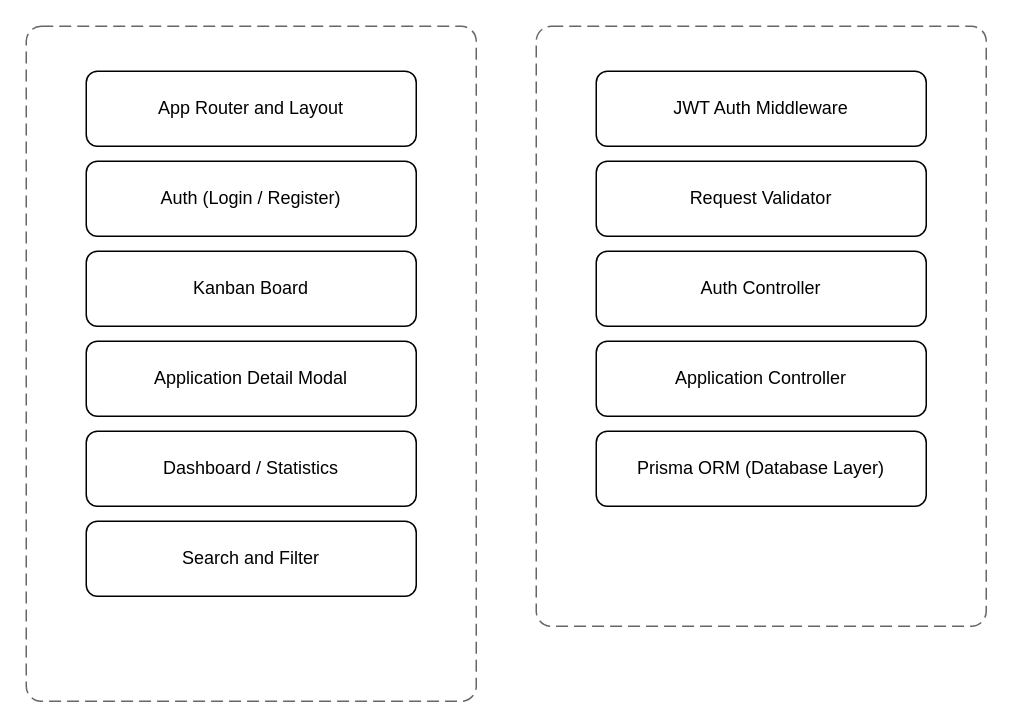
This 1013x728 diagram has some shape labels left out. Here are the shapes that lost their labels. From the top down, the box of each, then its label:
(535, 25, 986, 626): Express REST API [Backend Components]
(25, 25, 476, 701): React SPA [Frontend Components]
